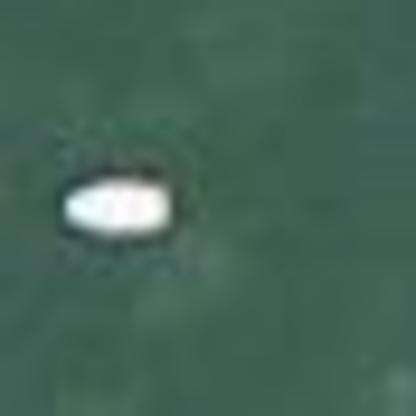ship: (51, 162, 184, 251)
